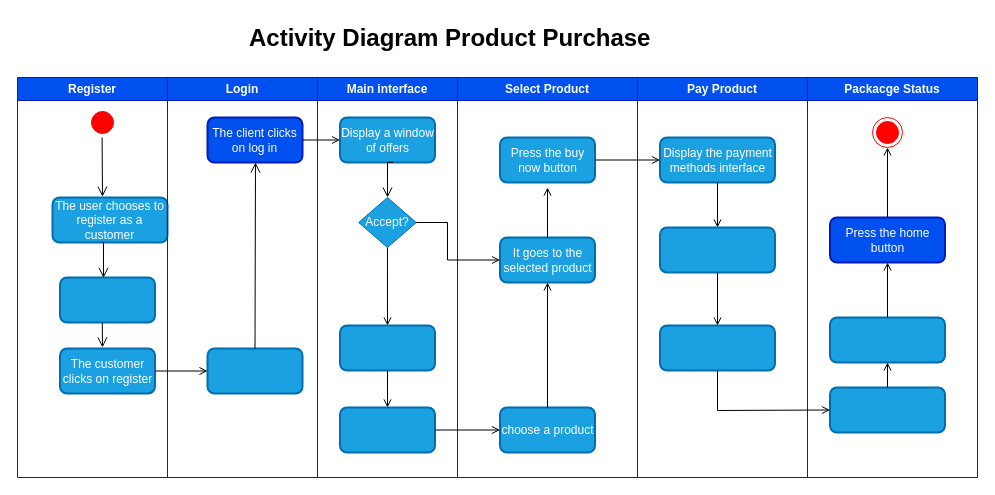
Some shapes in this 995 by 495 pixel diagram are drawn without their labels. Each missing label, with the centre of its shape:
Browse categories: (387,429)
display the package status interface: (887,409)
Press the pay button: (717,347)
Show the main interface: (387,347)
Take the customer's data: (107,299)
Take the payment data: (717,249)
The customer enters the data to log in: (254,370)
view shipping details: (887,339)
